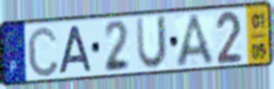2: (215, 9, 245, 67), (102, 19, 132, 75)
A: (174, 12, 217, 69), (57, 23, 95, 76)
C: (25, 24, 60, 80)
U: (134, 14, 169, 72)
